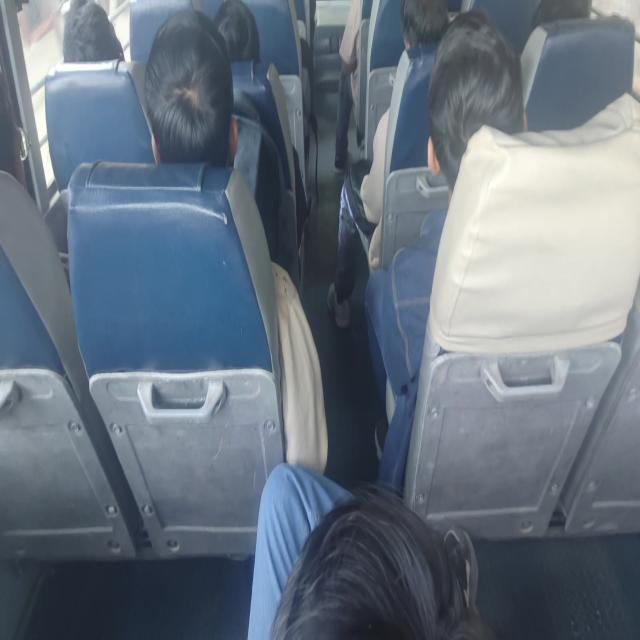person: (143, 8, 328, 472), (363, 9, 528, 487), (247, 461, 481, 638), (327, 0, 449, 329), (143, 8, 239, 167), (333, 0, 362, 172), (62, 0, 125, 62), (212, 0, 260, 62)
